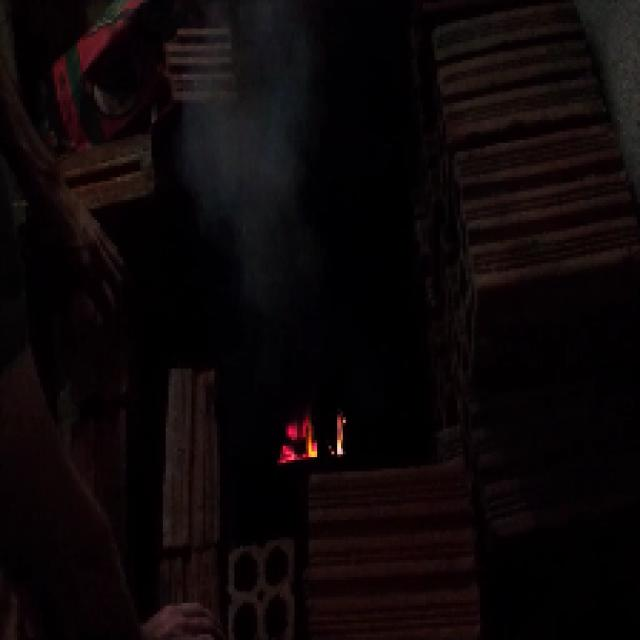smoke: (190, 96, 294, 203)
